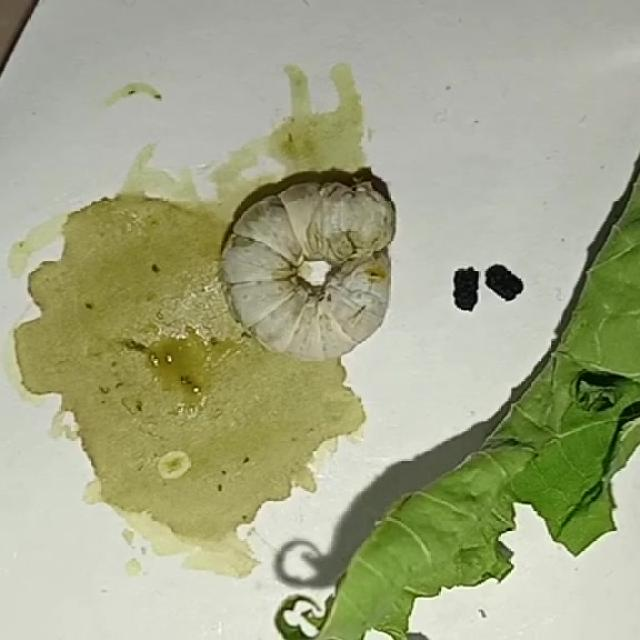Grasserie: (207, 152, 410, 370)
